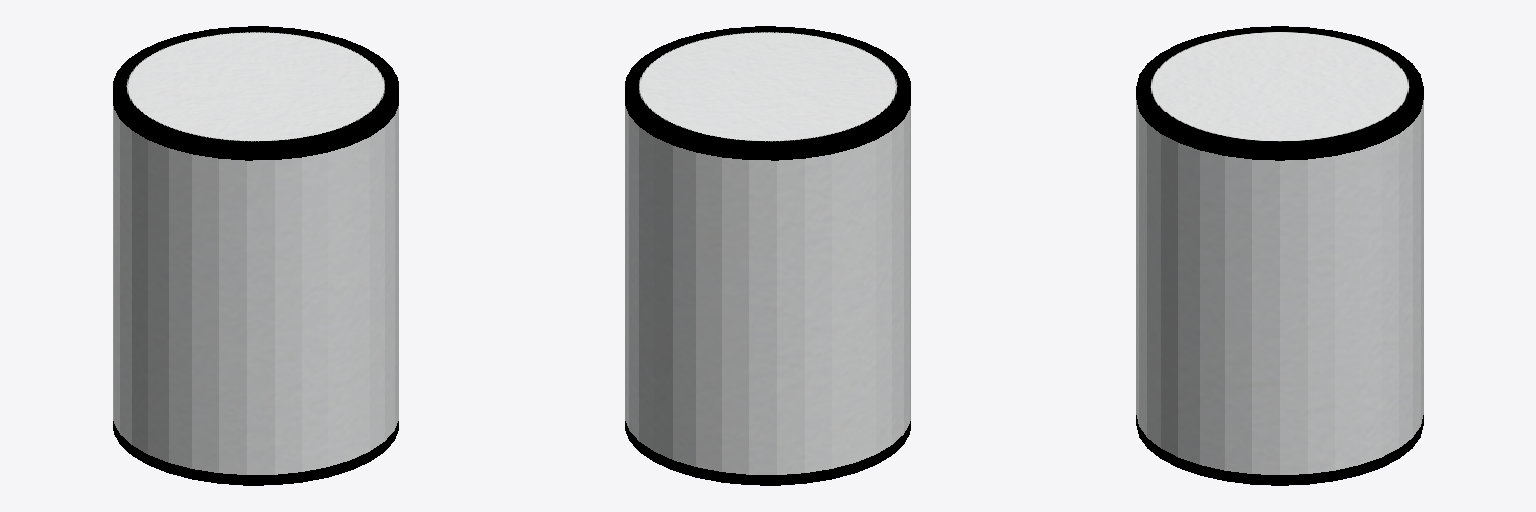
The picture shows the model from 3 angles: view 1: azimuth 30°, elevation 25°; view 2: azimuth 150°, elevation 25°; view 3: azimuth 270°, elevation 25°; orthographic projection.
Parts seen in each view (by area): view 1: Cylinder; view 2: Cylinder; view 3: Cylinder.
Part boxes in pixels (x1,y1,x2,y2): Cylinder: (113, 26, 398, 485); Cylinder: (625, 26, 910, 485); Cylinder: (1136, 26, 1423, 485).
Bounding box in the file's own units: 1 × 1.3 × 1.
1 materials, 1 textured.